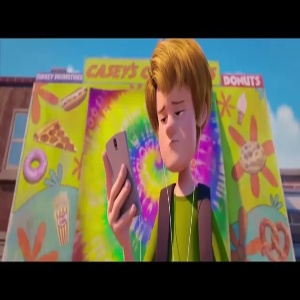Shagy: (137, 36, 219, 173)
